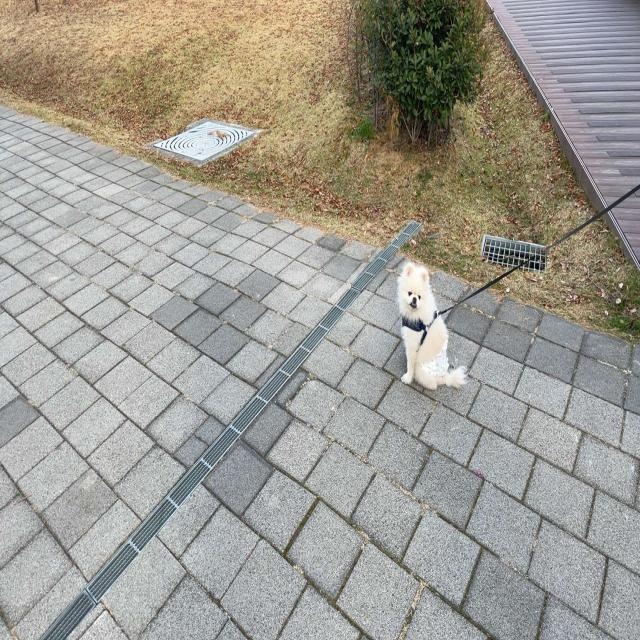Dog: (397, 262, 468, 393)
